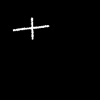single_crochet: (13, 18, 48, 38)
